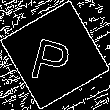P_N: (30, 25, 80, 85)
